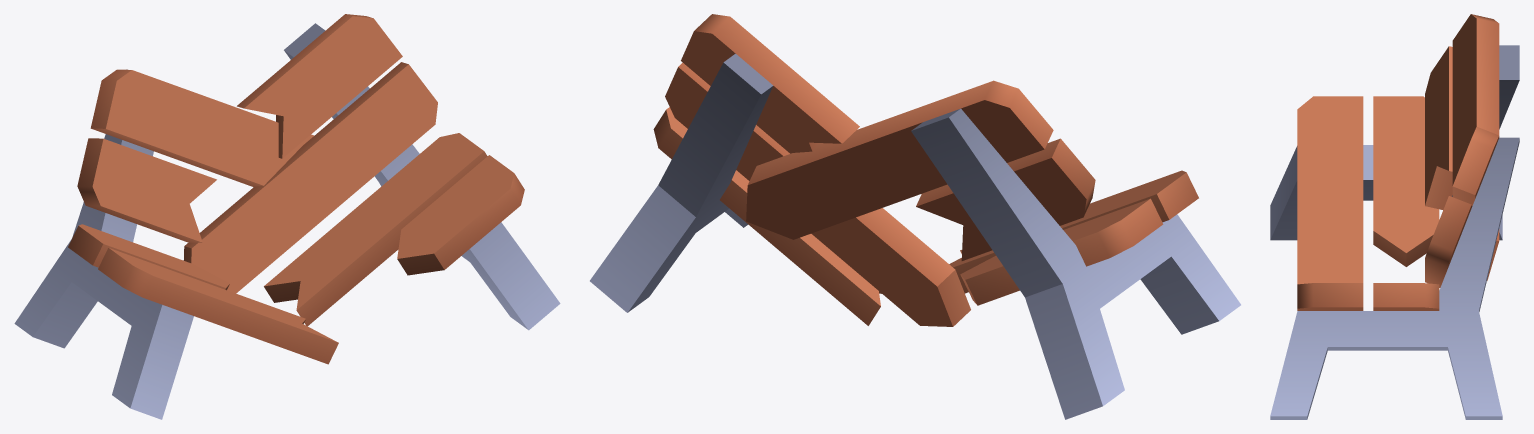
Rendered from bench-damaged_lev2.glb.
3 views of the same model, side by side, from view 1: azimuth 30°, elevation 25°; view 2: azimuth 150°, elevation 25°; view 3: azimuth 270°, elevation 25° (orthographic). The views are drawn at different scales.
Parts seen in each view (by area): view 1: bench-damaged_lev2; view 2: bench-damaged_lev2; view 3: bench-damaged_lev2.
Boxes of the visible parts, bbox=[...] form: bench-damaged_lev2: bbox=[14, 14, 560, 419]; bench-damaged_lev2: bbox=[590, 14, 1240, 419]; bench-damaged_lev2: bbox=[1270, 14, 1519, 419].
Size of the model in its own units: 7.27 by 4.15 by 3.64.
Materials: 1 (1 with a texture image).
